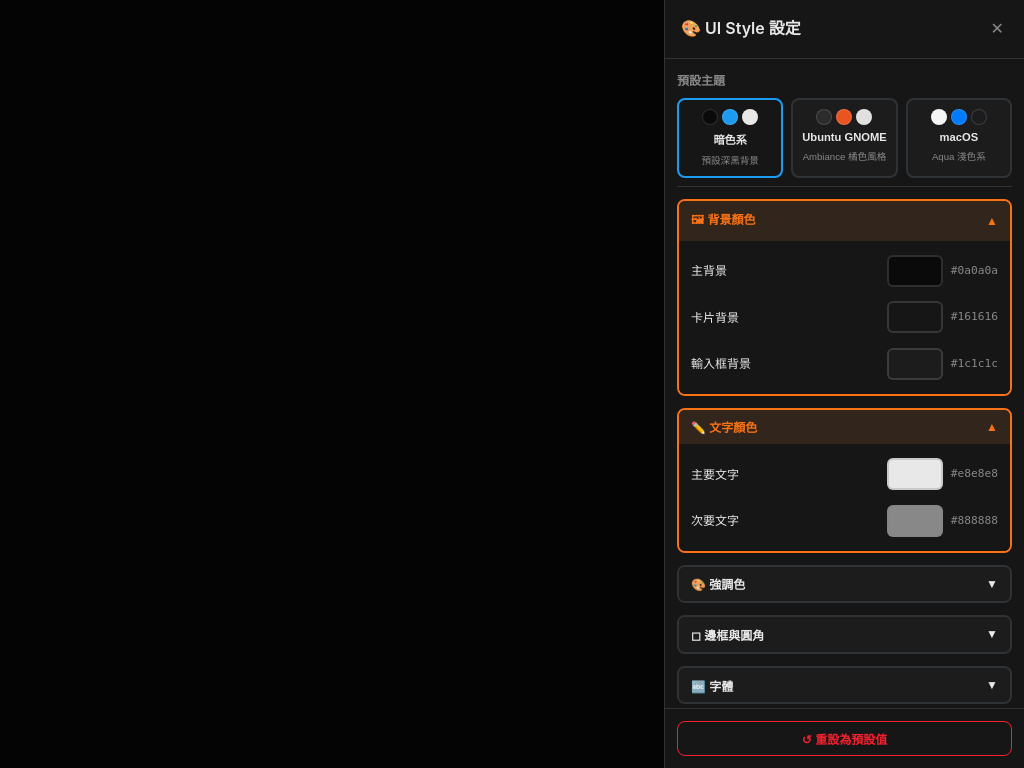
Test: StylePanel 渲染 › 點擊強調色 section 展開
Click the text "🎨 強調色": (718, 584) x1=691 y1=575 x2=745 y2=592
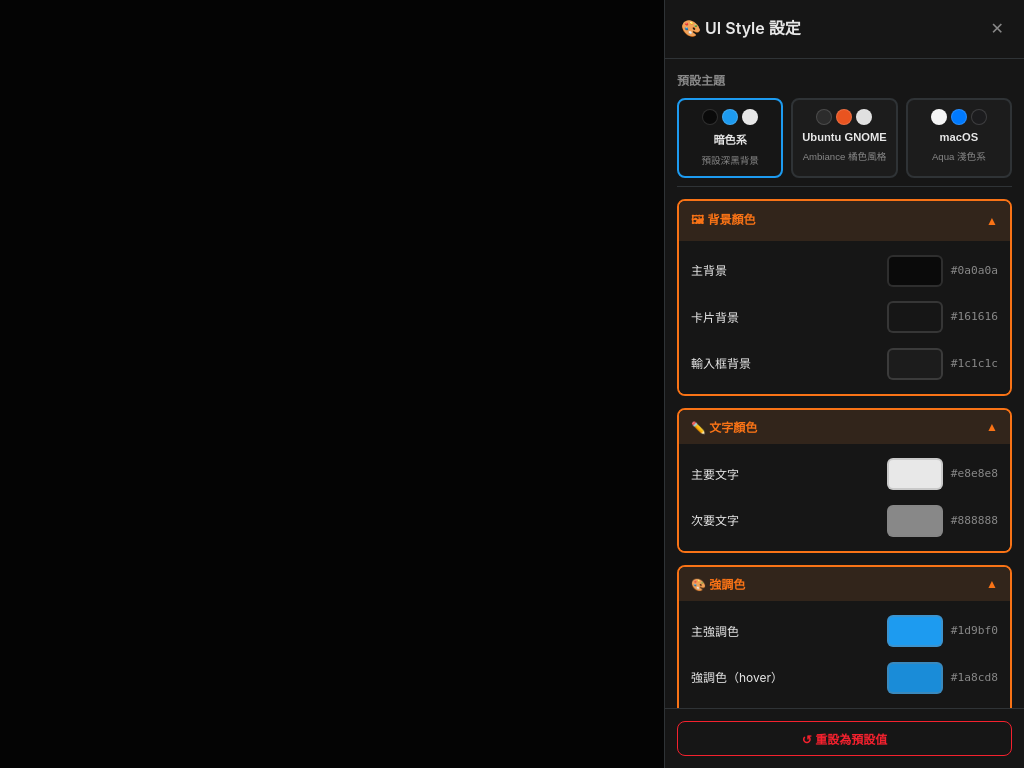
Expected: the text "主強調色" is shown, x1=691 y1=624 x2=739 y2=638
